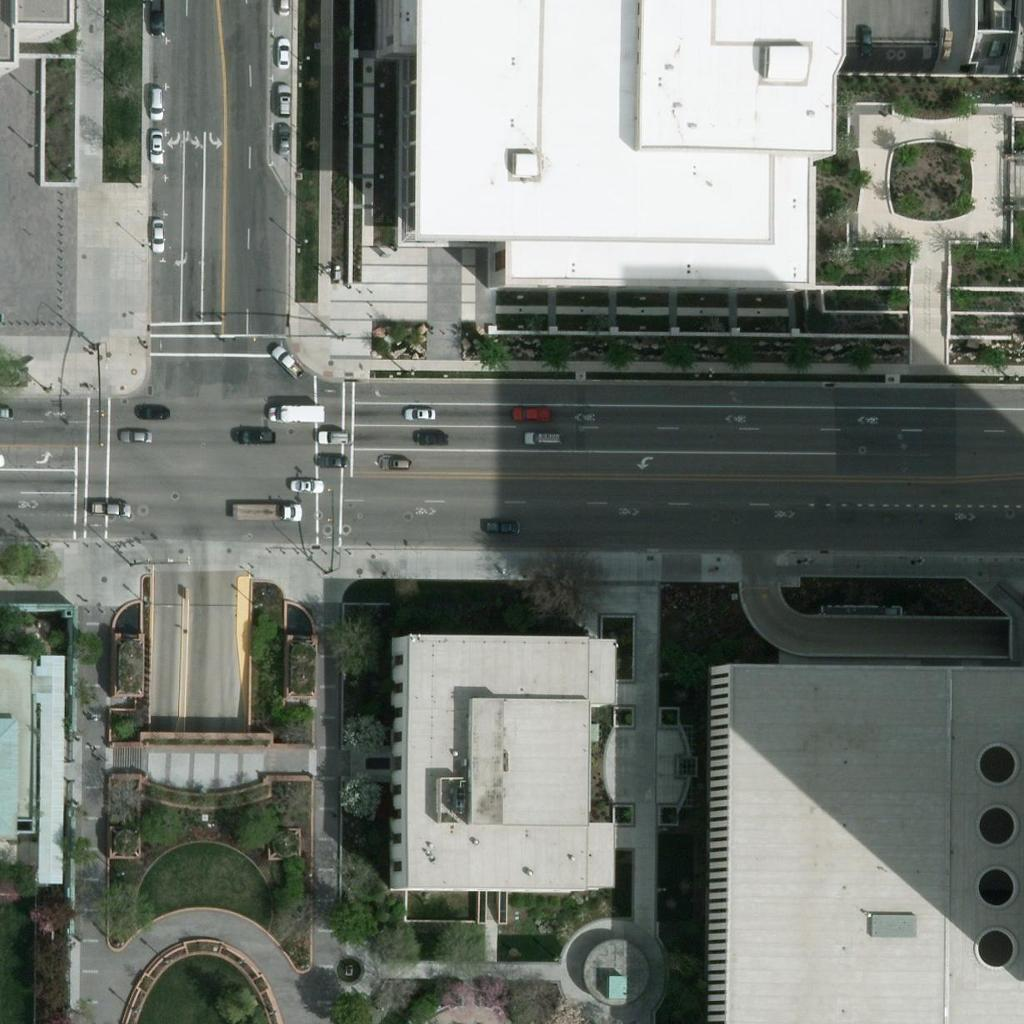car: (848, 22, 882, 56), (265, 35, 299, 69), (266, 81, 300, 115), (138, 86, 172, 120), (265, 121, 299, 155), (139, 131, 173, 165), (140, 214, 174, 248), (271, 344, 305, 378), (401, 396, 435, 430), (510, 396, 544, 430), (138, 398, 172, 432), (119, 416, 153, 450), (235, 418, 269, 452), (317, 418, 351, 452), (418, 419, 452, 453), (527, 421, 561, 455), (316, 443, 350, 477), (379, 444, 413, 478), (288, 468, 322, 502), (96, 492, 130, 526), (490, 510, 524, 544), (138, 0, 172, 33), (266, 0, 300, 17), (0, 394, 17, 428)
